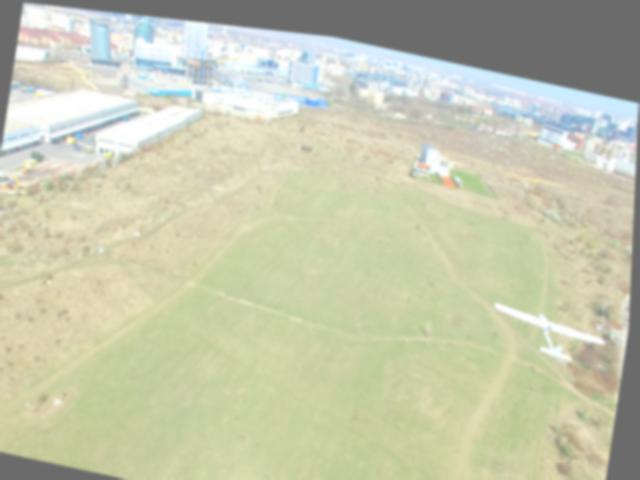plane: (489, 291, 611, 355)
